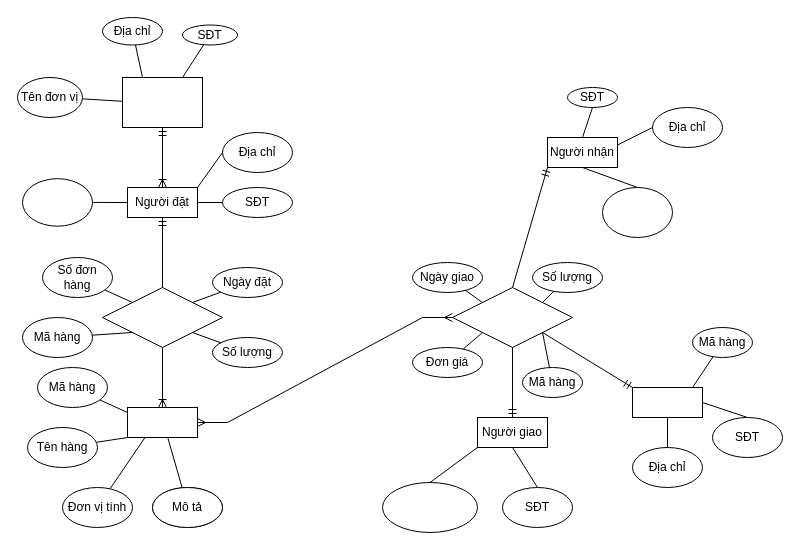
This 800x550 diagram has some shape labels left out. Each missing label, with the centre of its shape:
Giao hàng: point 512,317
Hàng: point 162,422
Họ tên người giao: point 430,507
Họ tên người đặt: point 57,202
Nơi giao: point 667,402
Tên người nhận: point 637,212
Đơn vị đặt hàng: point 162,102
Đặt hàng: point 162,317
